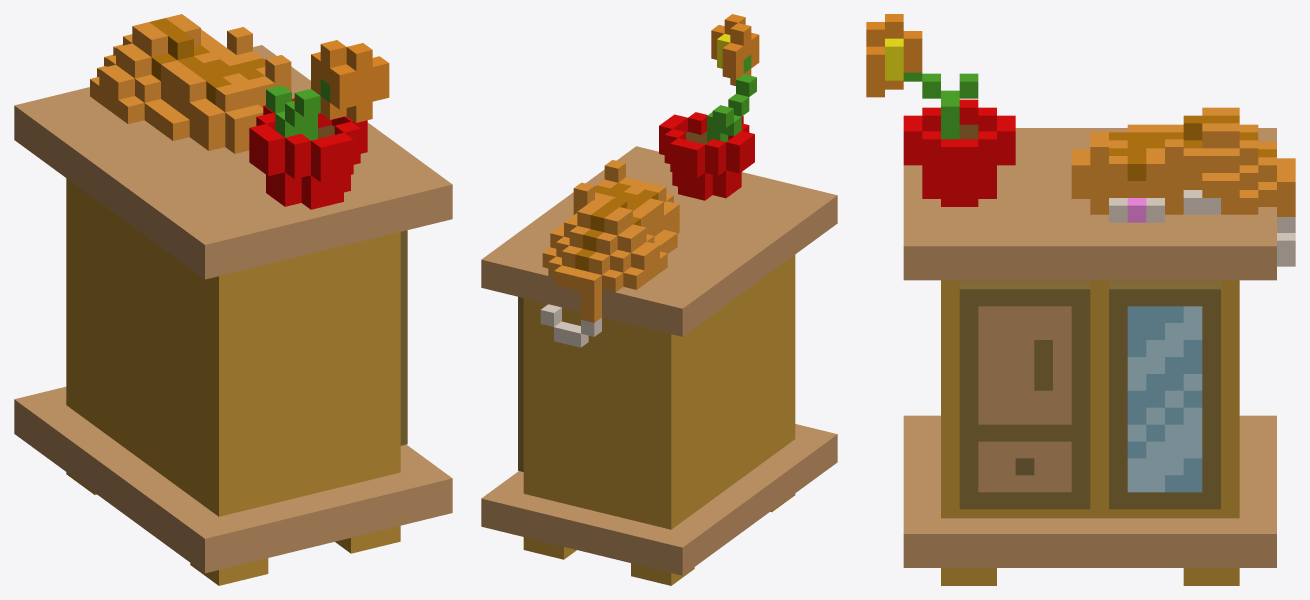
The model's file is wardrob.gltf.
3 views of the same model, side by side, from view 1: azimuth 30°, elevation 25°; view 2: azimuth 150°, elevation 25°; view 3: azimuth 270°, elevation 25° (orthographic). The views are drawn at different scales.
Bounding box in the file's own units: 15 × 31 × 23.
1 material, 1 textured.
